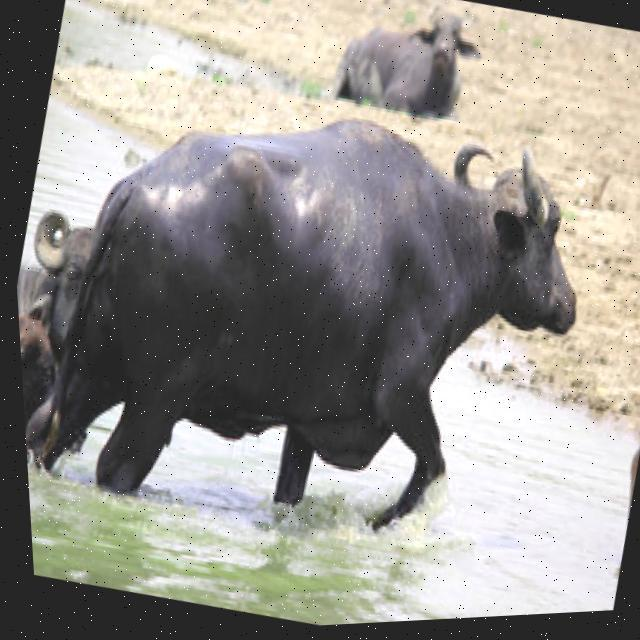Buffalo: (12, 33, 635, 581)
